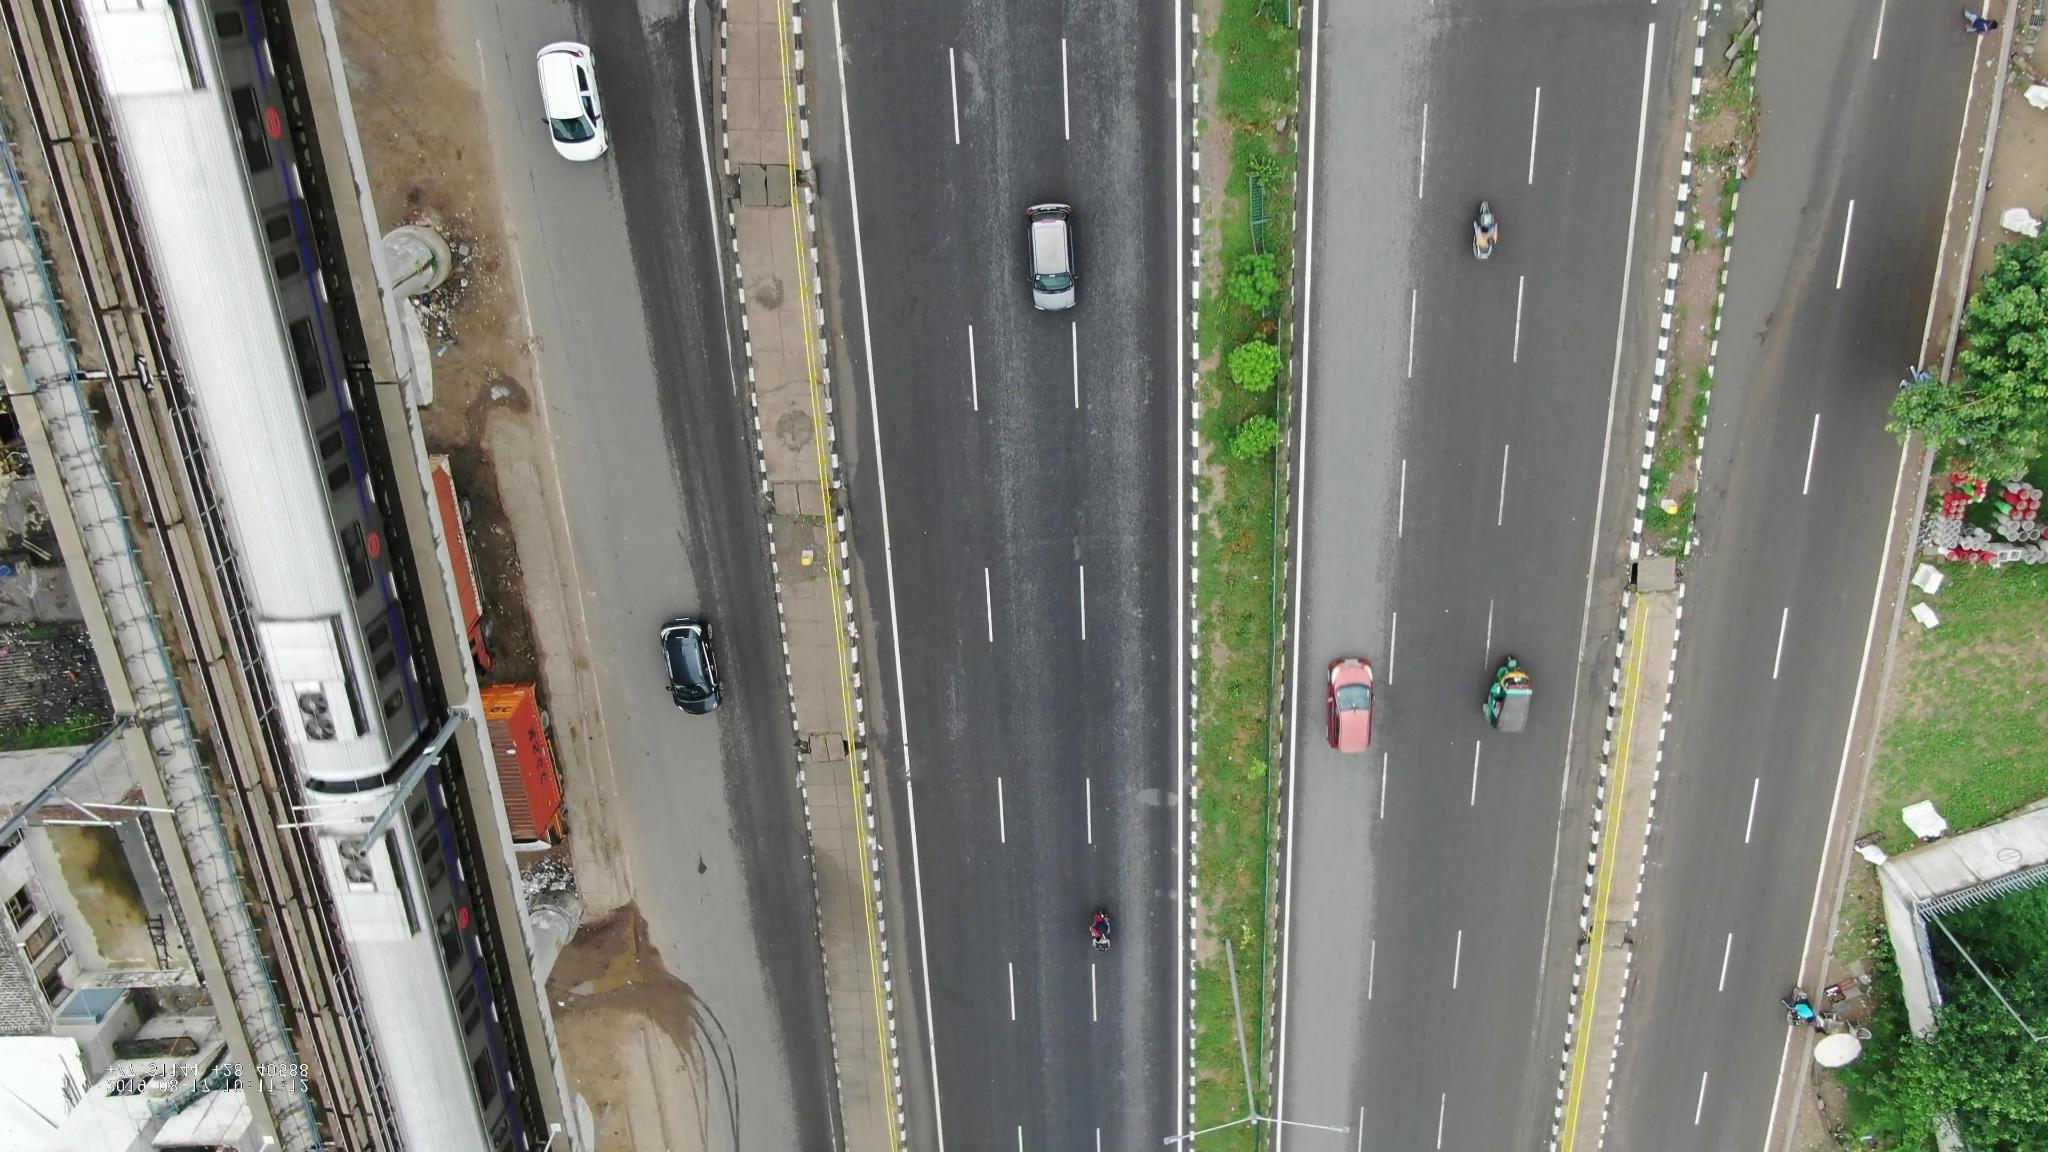Waterlogging: (1692, 58, 1829, 513)
